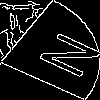N: (24, 25, 100, 80)
